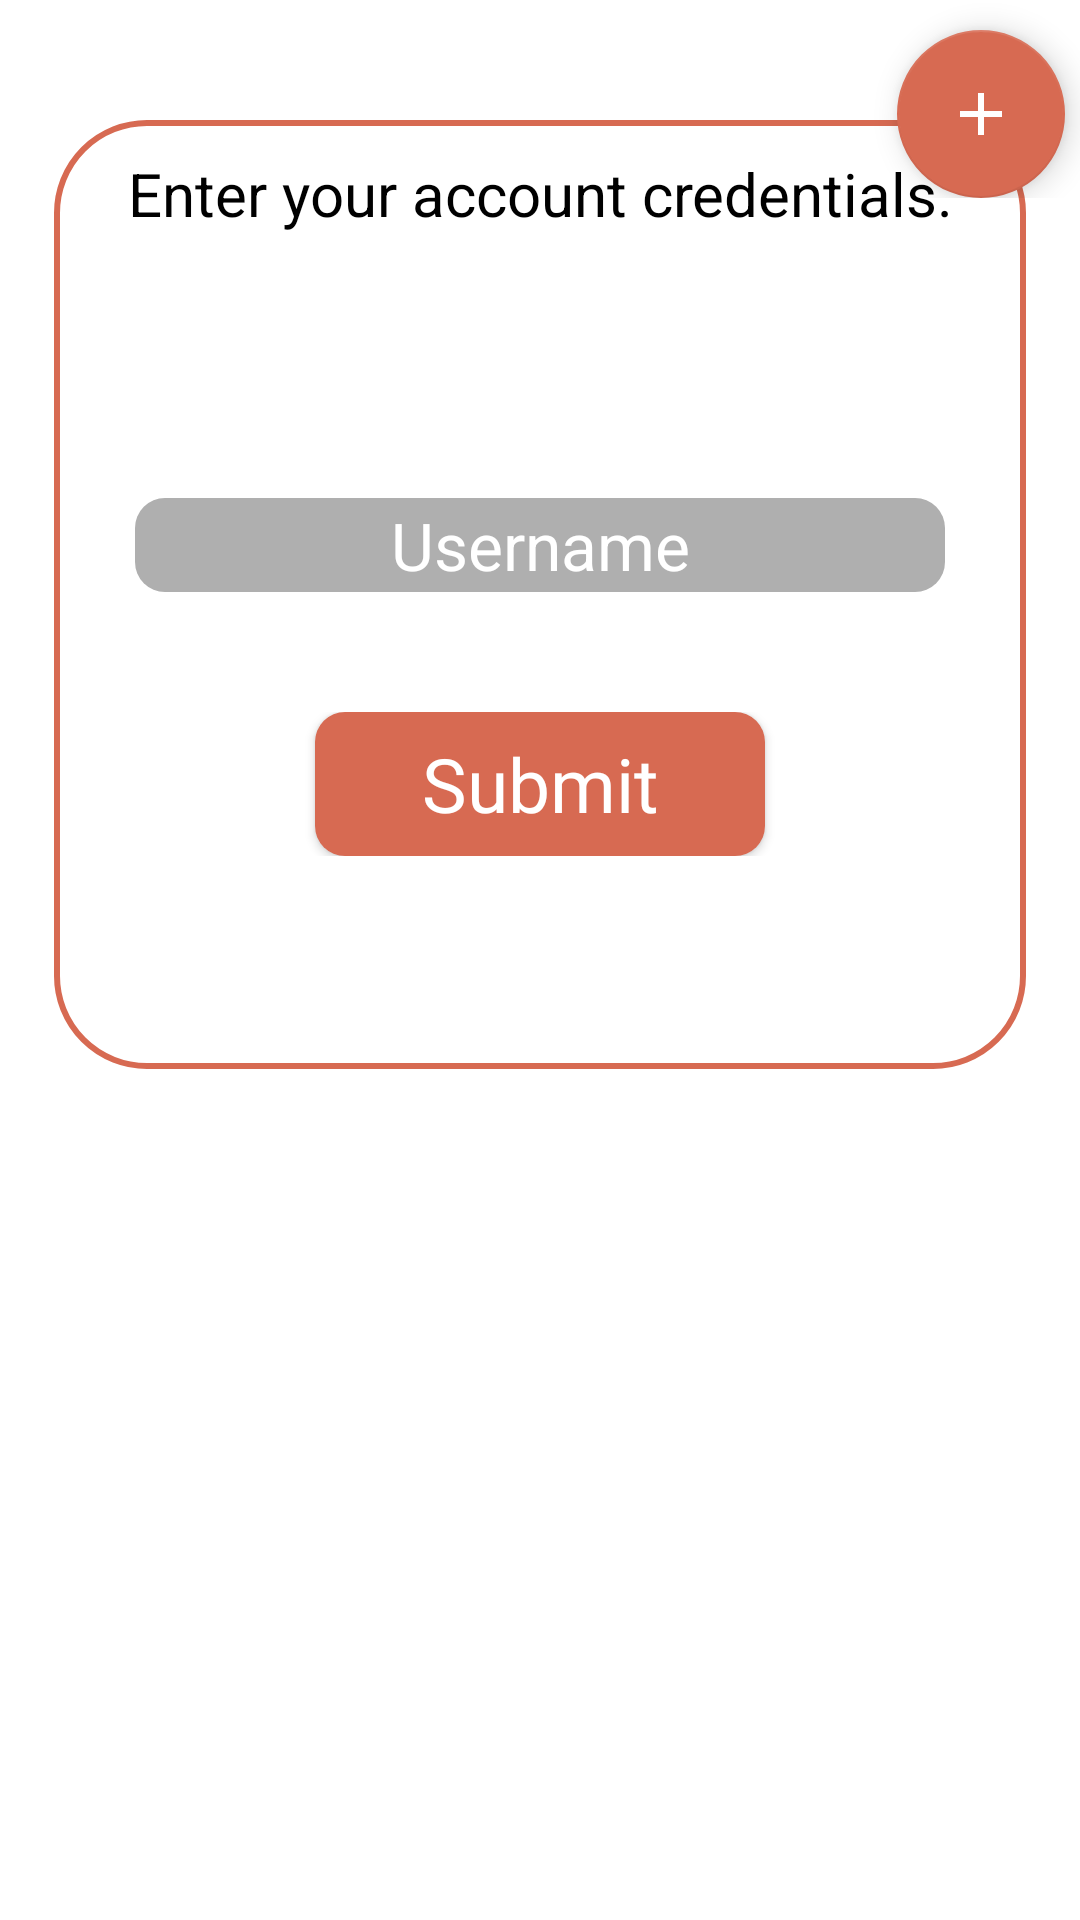

Icons on this 1080x1920 Android screen, each with its box as (x1, y1, x2, y2):
add: (897, 30, 1065, 198)
